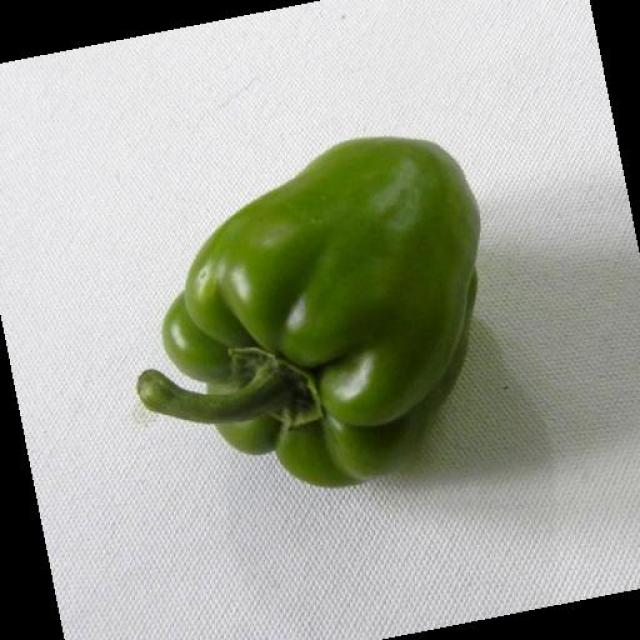Fresh_Capsicum: (166, 135, 475, 497)
